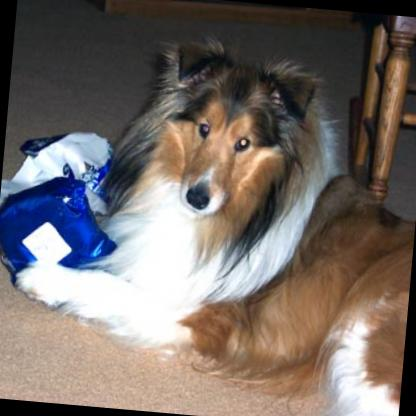Shetland_sheepdog: (2, 13, 416, 416)
